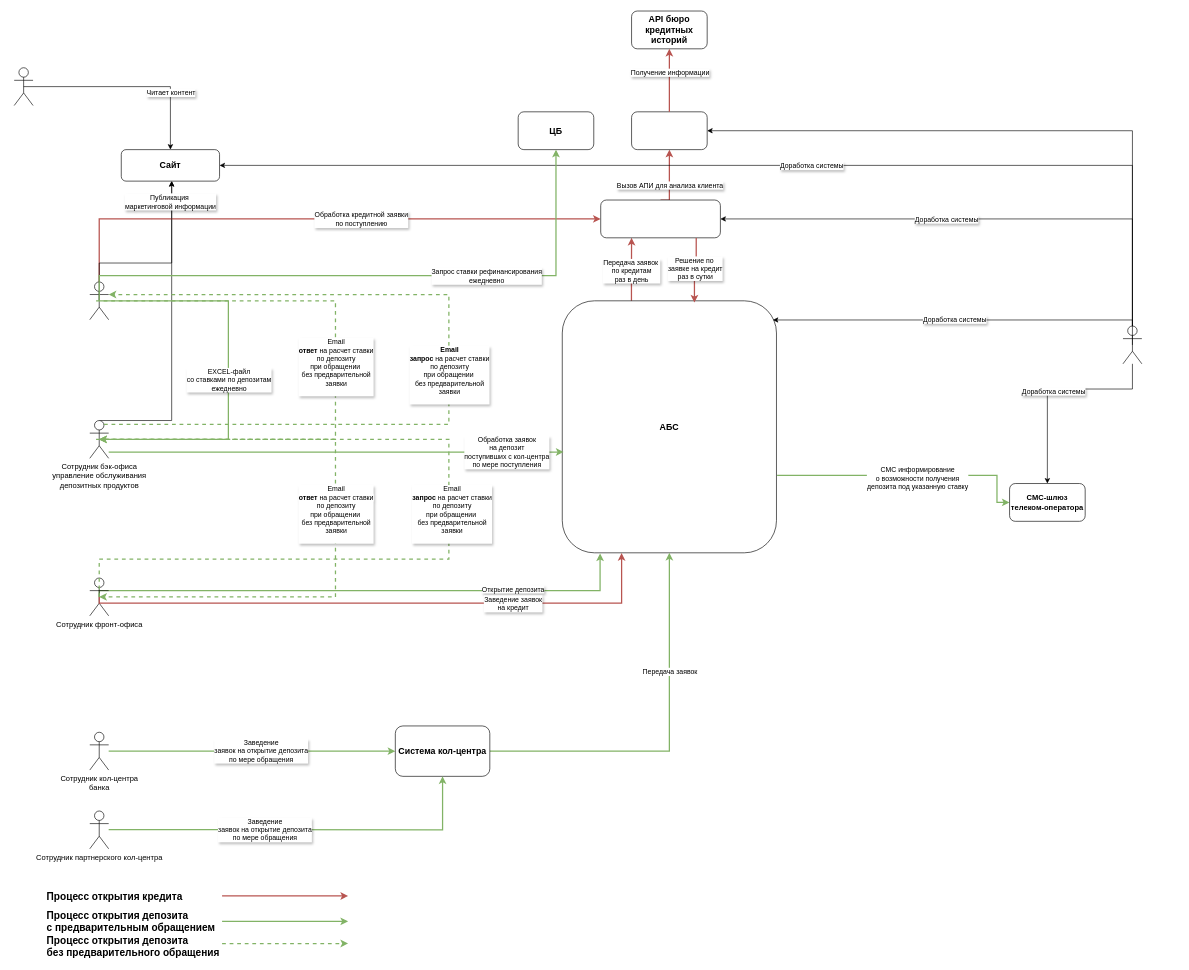
Some shapes in this 1189 by 970 pixel diagram are drawn without their labels. The box of each missing label's shape, as (x1, y1, x2, y2) in pixels:
Клиент: (14, 67, 33, 106)
Кредитный конвейер: (600, 199, 720, 238)
Система кредитного скоринга: (631, 111, 707, 150)
Сотрудник бэк-офиса управление обслуживания кредитных продуктов: (89, 281, 109, 320)
Сотрудник ИТ управления: (1122, 325, 1142, 364)
